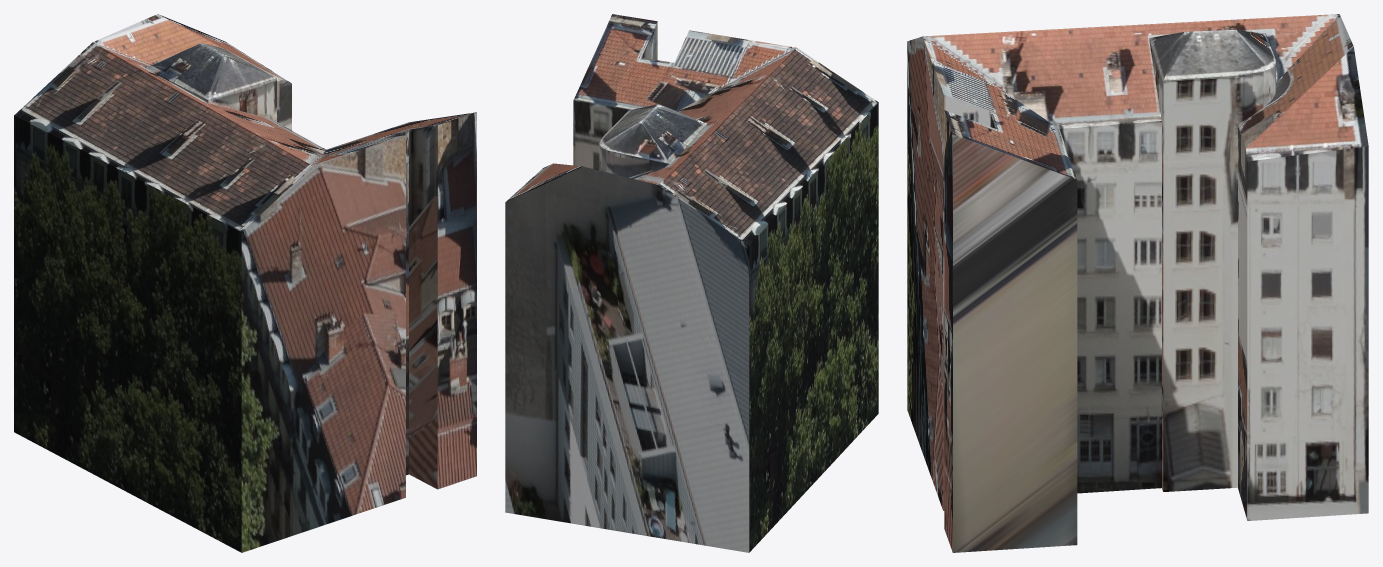
3 renders of one model, left to right at view 1: azimuth 30°, elevation 25°; view 2: azimuth 150°, elevation 25°; view 3: azimuth 270°, elevation 25°, orthographic. The views are drawn at different scales.
Parts seen in each view (by area): view 1: Z_UP; view 2: Z_UP; view 3: Z_UP.
Boxes of the visible parts, x1=… form: Z_UP: x1=14, y1=14, x2=476, y2=552; Z_UP: x1=505, y1=14, x2=878, y2=552; Z_UP: x1=907, y1=14, x2=1368, y2=552.
Size of the model in its own units: 23.26 by 28.05 by 26.78.
Materials: 2 (1 with a texture image).
